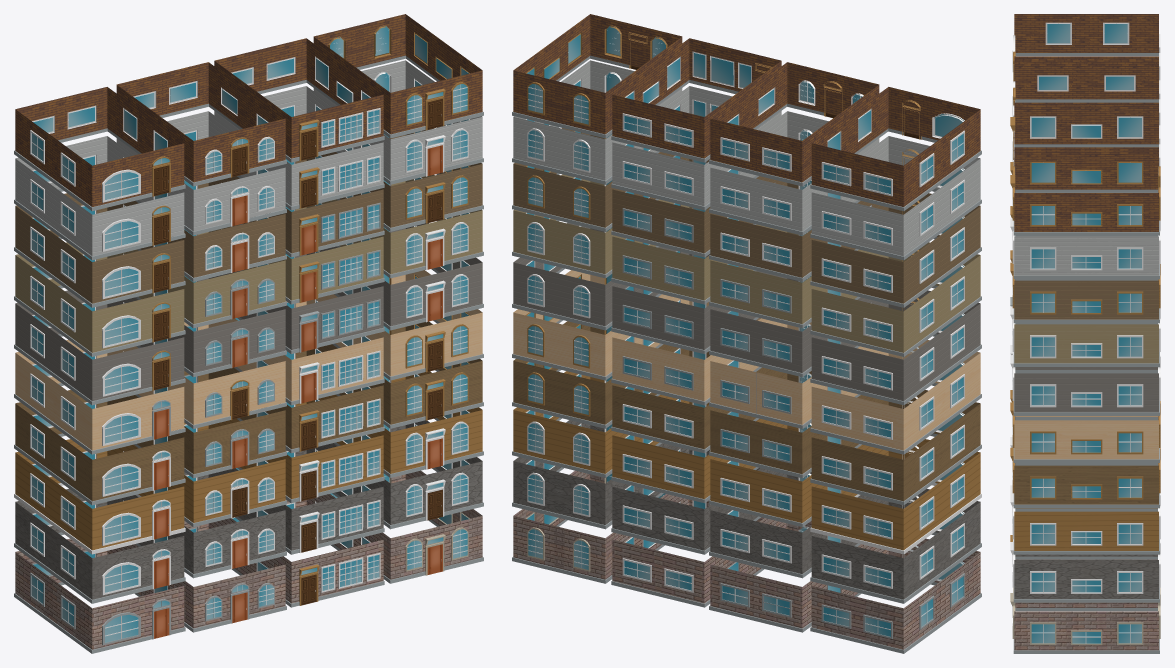
Rendered from ModularHouses_Base_01.fbx.
The picture shows the model from 3 angles, left to right: view 1: azimuth 30°, elevation 25°; view 2: azimuth 150°, elevation 25°; view 3: azimuth 270°, elevation 25°; orthographic projection. The views are drawn at different scales.
Parts seen in each view (by area): view 1: Base_V_1_1, Base_V_2_1, Base_V_4_1, Base_V_3_1, Base_V_1_2, Base_V_1_7, Base_V_1_8, Base_V_1_10, Base_V_1_9, Base_V_1_6, Base_V_1_5, Base_V_1_4 (+28 smaller); view 2: Base_V_1_1, Base_V_2_1, Base_V_4_1, Base_V_3_1, Base_V_1_2, Base_V_1_7, Base_V_1_8, Base_V_1_10, Base_V_1_9, Base_V_1_6, Base_V_1_5, Base_V_1_4 (+28 smaller); view 3: Base_V_4_1, Base_V_4_10, Base_V_4_5, Base_V_4_9, Base_V_4_8, Base_V_4_6, Base_V_1_1, Base_V_4_7, Base_V_3_1, Base_V_2_1, Base_V_4_3, Base_V_4_2 (+1 smaller).
Boxes of the visible parts, <box> form: Base_V_1_1: <box>14,87,185,211</box>; Base_V_2_1: <box>116,62,286,186</box>; Base_V_4_1: <box>313,14,483,138</box>; Base_V_3_1: <box>214,38,384,162</box>; Base_V_1_2: <box>14,136,185,260</box>; Base_V_1_7: <box>14,390,185,505</box>; Base_V_1_8: <box>14,439,185,554</box>; Base_V_1_10: <box>14,538,185,653</box>; Base_V_1_9: <box>14,489,185,603</box>; Base_V_1_6: <box>14,340,185,454</box>; Base_V_1_5: <box>14,290,185,405</box>; Base_V_1_4: <box>14,242,185,356</box>; Base_V_1_1: <box>810,87,981,211</box>; Base_V_2_1: <box>709,62,879,186</box>; Base_V_4_1: <box>512,14,682,138</box>; Base_V_3_1: <box>611,38,781,162</box>; Base_V_1_2: <box>810,136,981,260</box>; Base_V_1_7: <box>810,390,981,505</box>; Base_V_1_8: <box>810,439,981,554</box>; Base_V_1_10: <box>810,538,981,653</box>; Base_V_1_9: <box>810,489,981,603</box>; Base_V_1_6: <box>810,340,981,454</box>; Base_V_1_5: <box>810,290,981,405</box>; Base_V_1_4: <box>810,242,981,356</box>; Base_V_4_1: <box>1010,150,1160,235</box>; Base_V_4_10: <box>1010,587,1160,653</box>; Base_V_4_5: <box>1010,352,1160,415</box>; Base_V_4_9: <box>1010,539,1160,602</box>; Base_V_4_8: <box>1010,493,1160,554</box>; Base_V_4_6: <box>1010,401,1160,462</box>; Base_V_1_1: <box>1012,14,1160,81</box>; Base_V_4_7: <box>1010,447,1160,508</box>; Base_V_3_1: <box>1010,105,1160,166</box>; Base_V_2_1: <box>1012,60,1160,131</box>; Base_V_4_3: <box>1010,262,1160,323</box>; Base_V_4_2: <box>1010,218,1160,279</box>.
Bounding box in the file's own units: 176 × 211 × 62.33.
